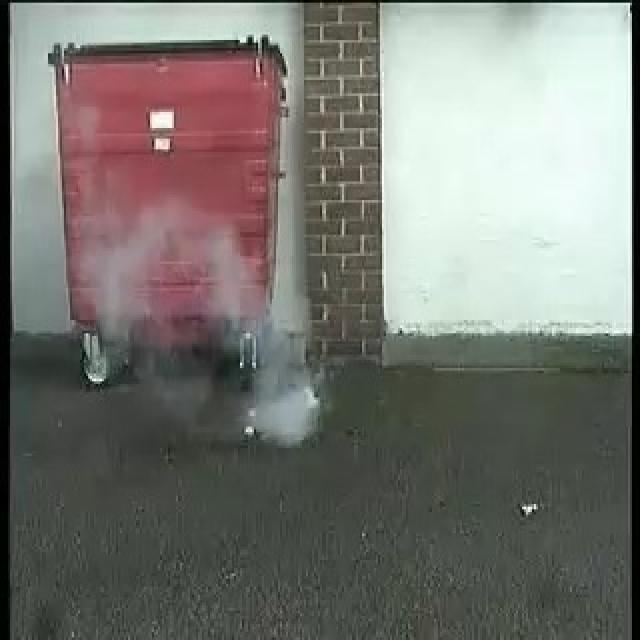Smoke: (204, 236, 322, 448)
